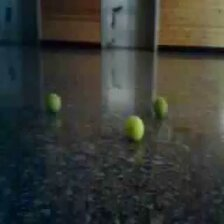tennis: (123, 116, 144, 142), (152, 97, 169, 120), (46, 93, 62, 116)
